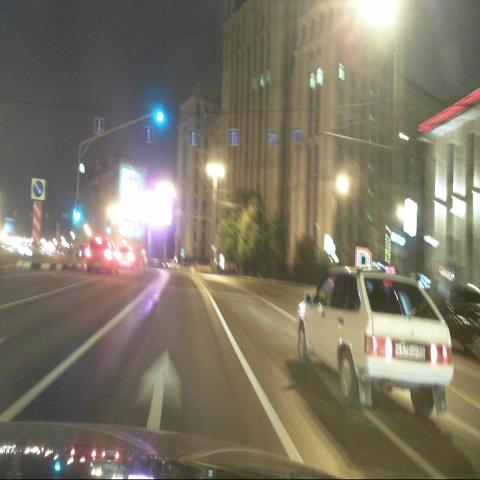4_2_1: (31, 178, 44, 199)
